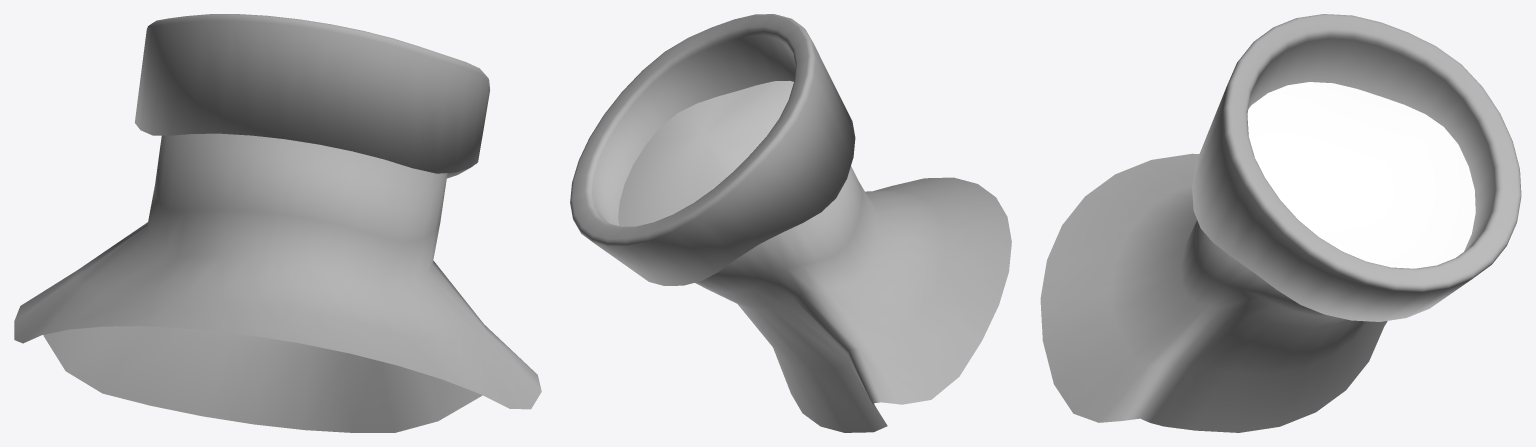
File: Prout_relief.fbx
The picture shows the model from 3 angles, left to right: view 1: azimuth 30°, elevation 25°; view 2: azimuth 150°, elevation 25°; view 3: azimuth 270°, elevation 25°; orthographic projection. The views are drawn at different scales.
Parts seen in each view (by area): view 1: Sphere.640; view 2: Sphere.640; view 3: Sphere.640.
Boxes of the visible parts, bbox=[...] form: Sphere.640: bbox=[14, 14, 541, 432]; Sphere.640: bbox=[570, 14, 1011, 432]; Sphere.640: bbox=[1040, 14, 1521, 432].
Size of the model in its own units: 25.85 by 23.46 by 25.82.
